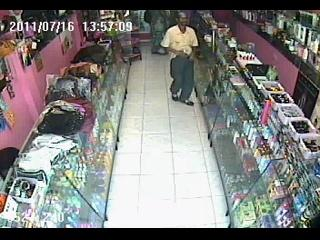Normal: (160, 12, 199, 106)
